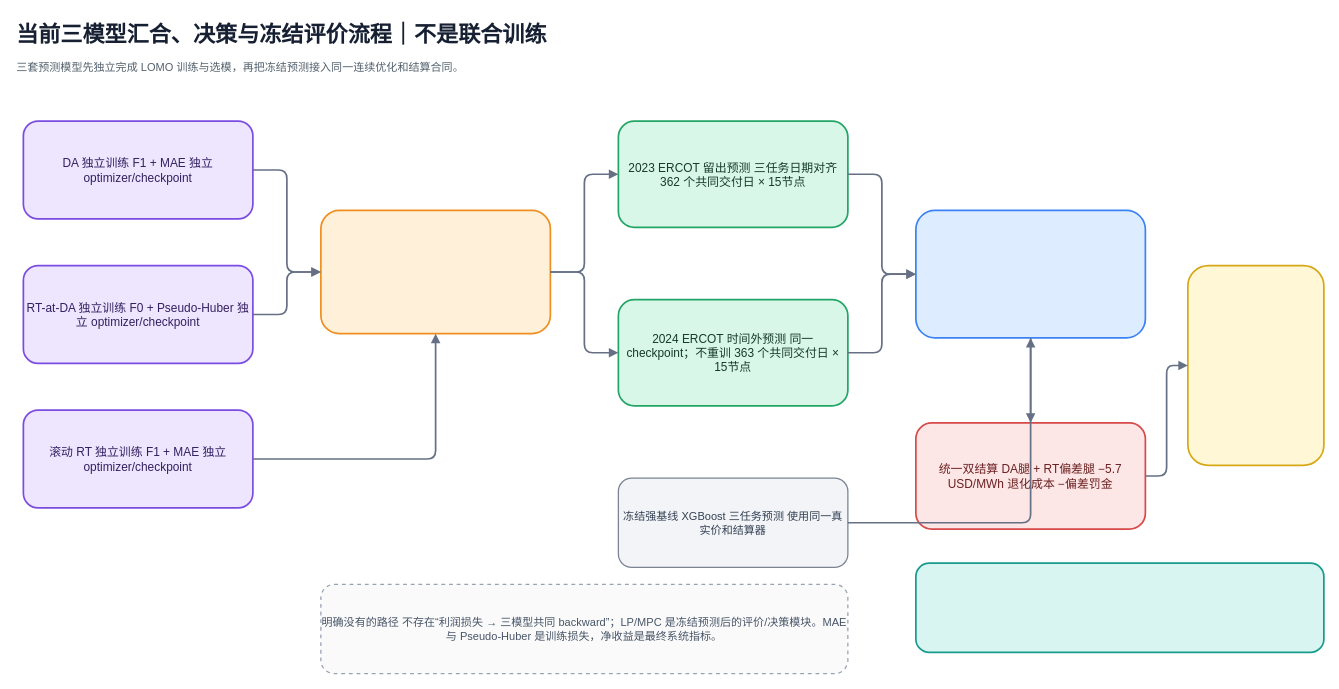
Some shapes in this 1339 by 689 pixel diagram are drawn without their labels. Here are the shapes that lost their labels. From the top down, the centre of each, then its label:
At (x=435, y=271): "冻结 seed0 三 checkpoint 2020–2022 三市场训练 2023 验证选定 不含 ERCOT ID/数据（ERCOT折）".
At (x=1030, y=273): "统一决策层 D-1 连续 DA LP + 每小时固定 DA 的 RT MPC 连续 SOC、功率约束".
At (x=1255, y=365): "配对报告 净收益/节点·日 7日块 bootstrap 回撤、正收益率、SOC违规 2023领先但区间跨0；2024显著落后".
At (x=1119, y=607): "阶段结论 基础设施与两年度检查已闭环，但稳定胜出目标未达成。2025、多 seed、另外三市场完整结算尚未完成。".
